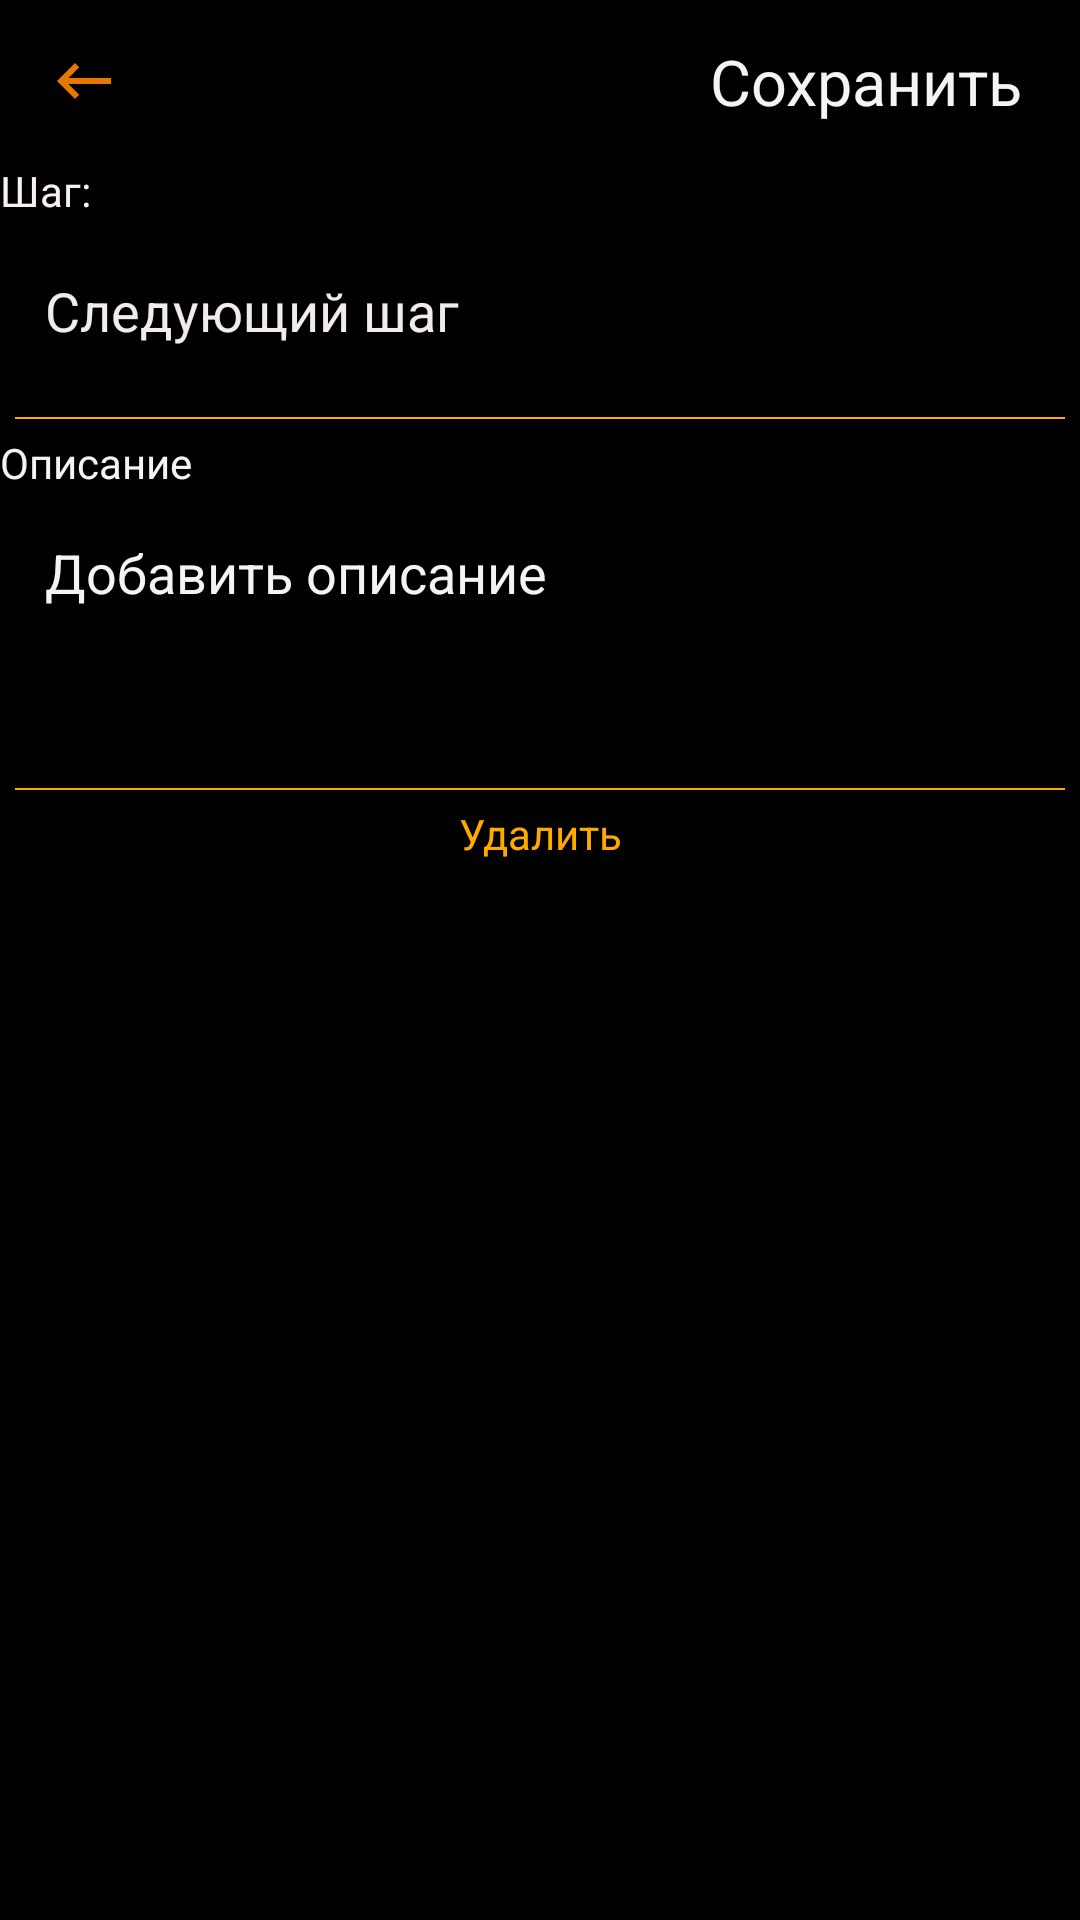

Icons on this 1080 x 1920 Android screen, each with the point to tap as point (x, y):
keyboard backspace: point (84, 81)
